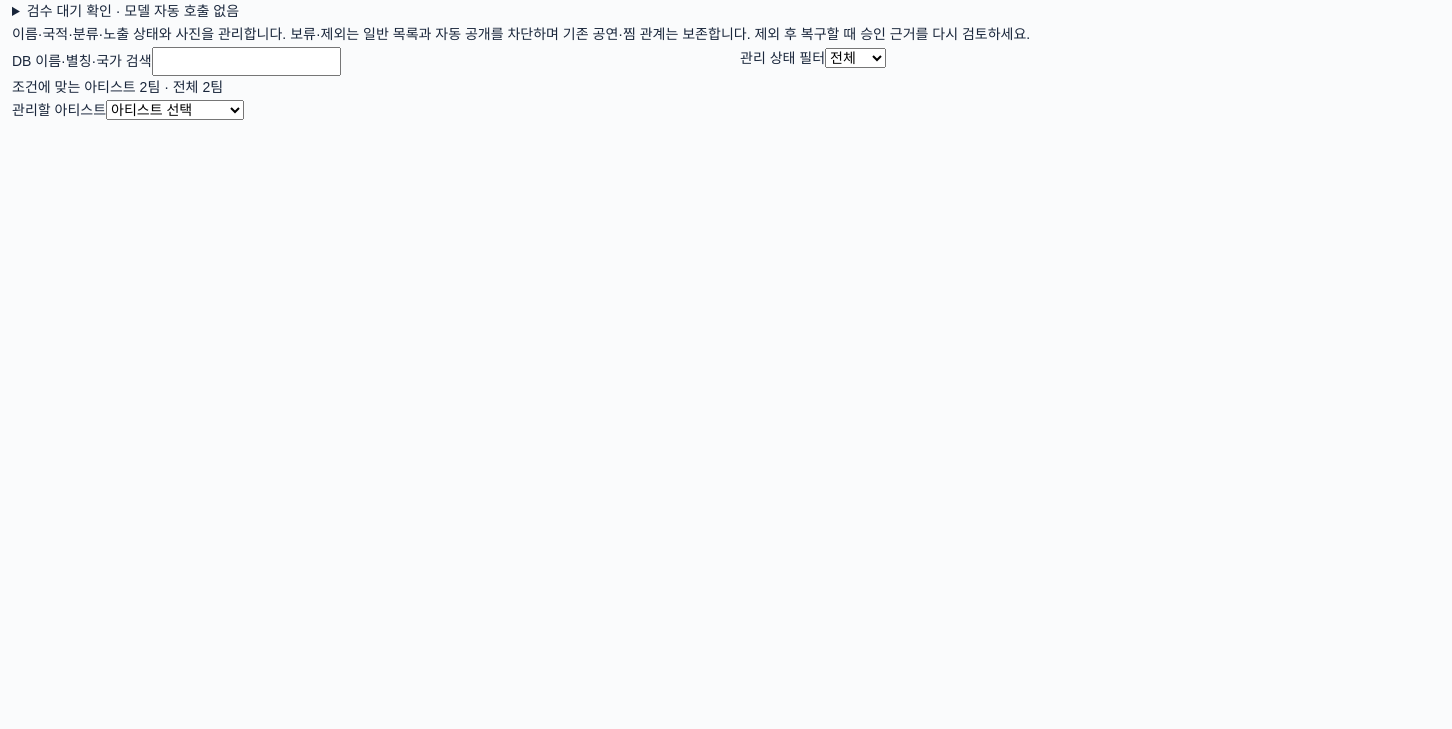
Test case: deletion suppresses auto photo and switching selection ignores an old save completion
The image size is (1452, 729).
Select "Ado (JP) · 미검수" in the dropdown labelled "관리할 아티스트". click: point(175, 110)
box: [106,100,244,120]
(page scrolled)
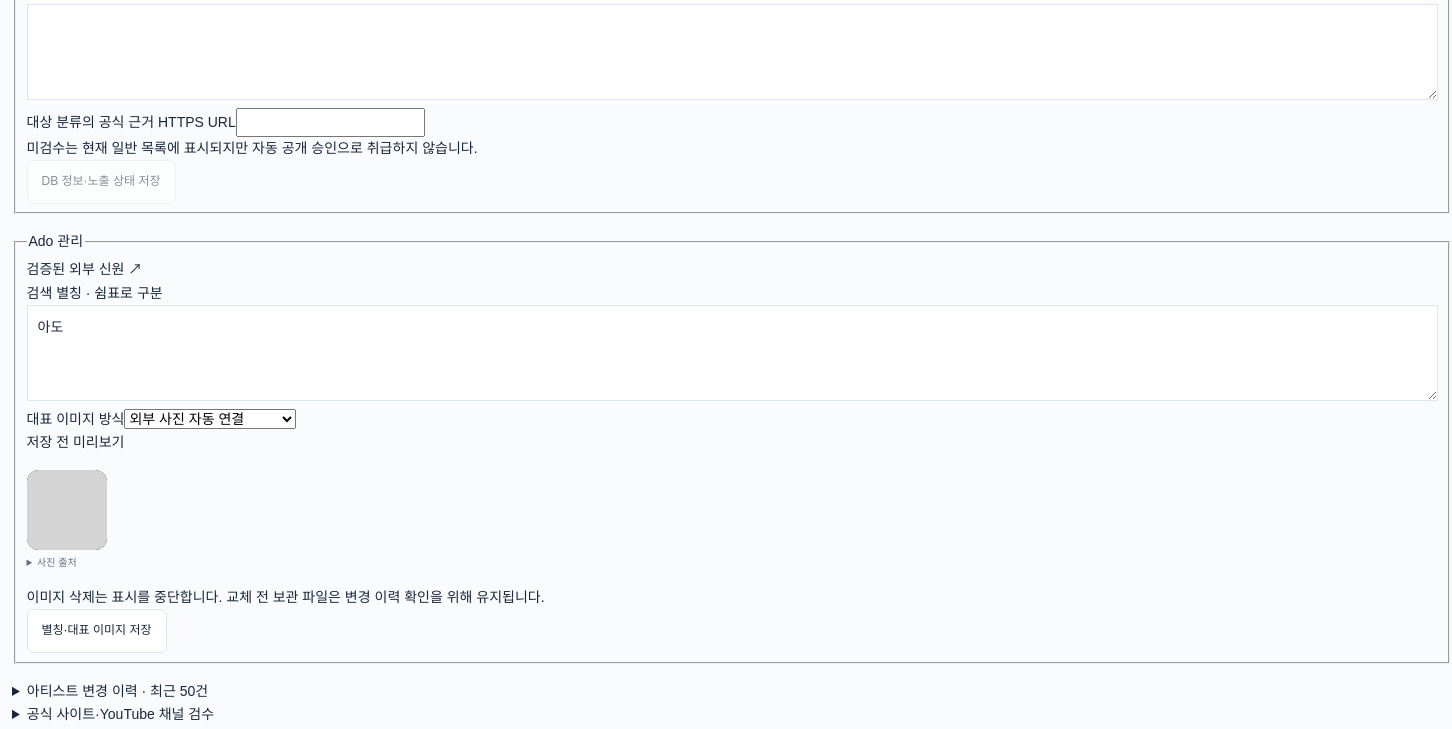
Select "이미지 삭제 · 이니셜 표시" in the dropdown labelled "대표 이미지 방식". click: point(210, 419)
box: [124,409,296,429]
(page scrolled)
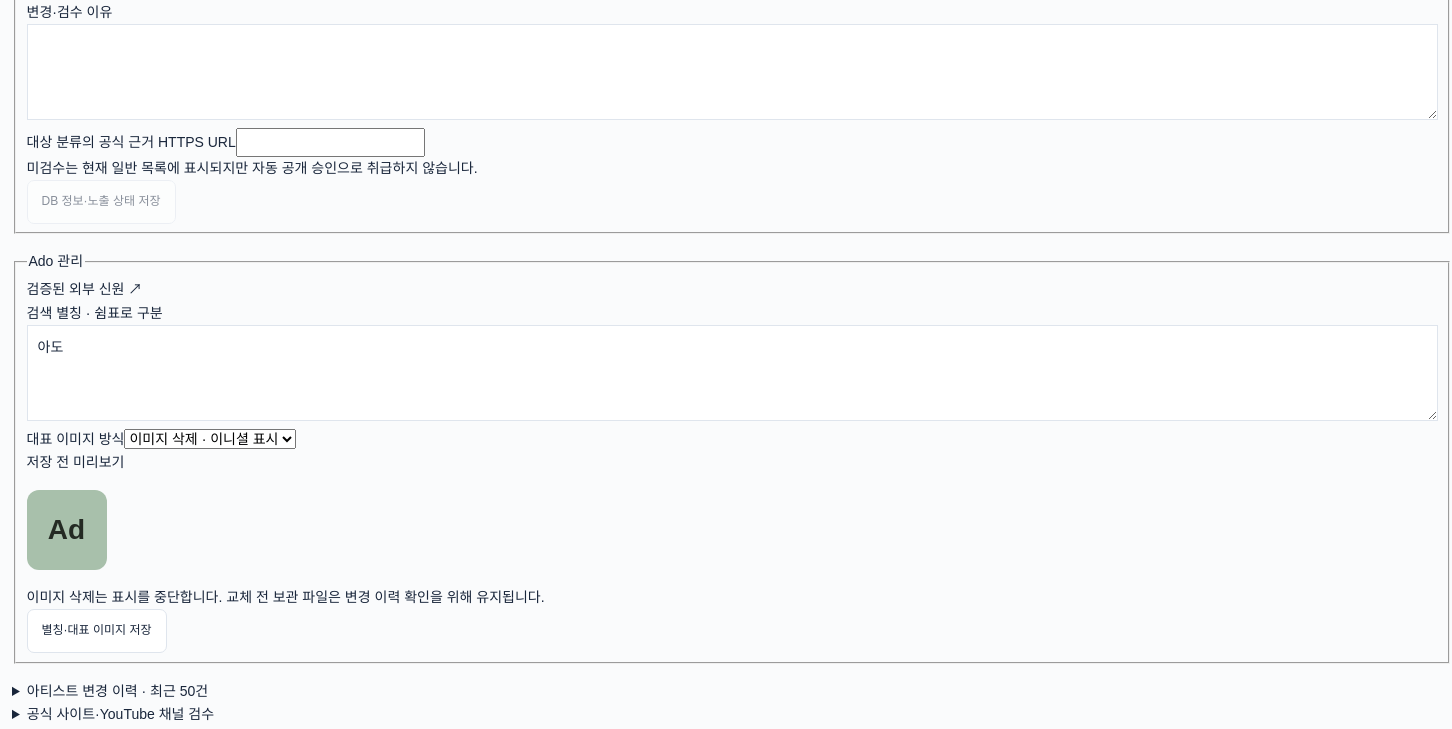
Click the button "별칭·대표 이미지 저장". click: point(96, 631)
box: [26,609,166,653]
(page scrolled)
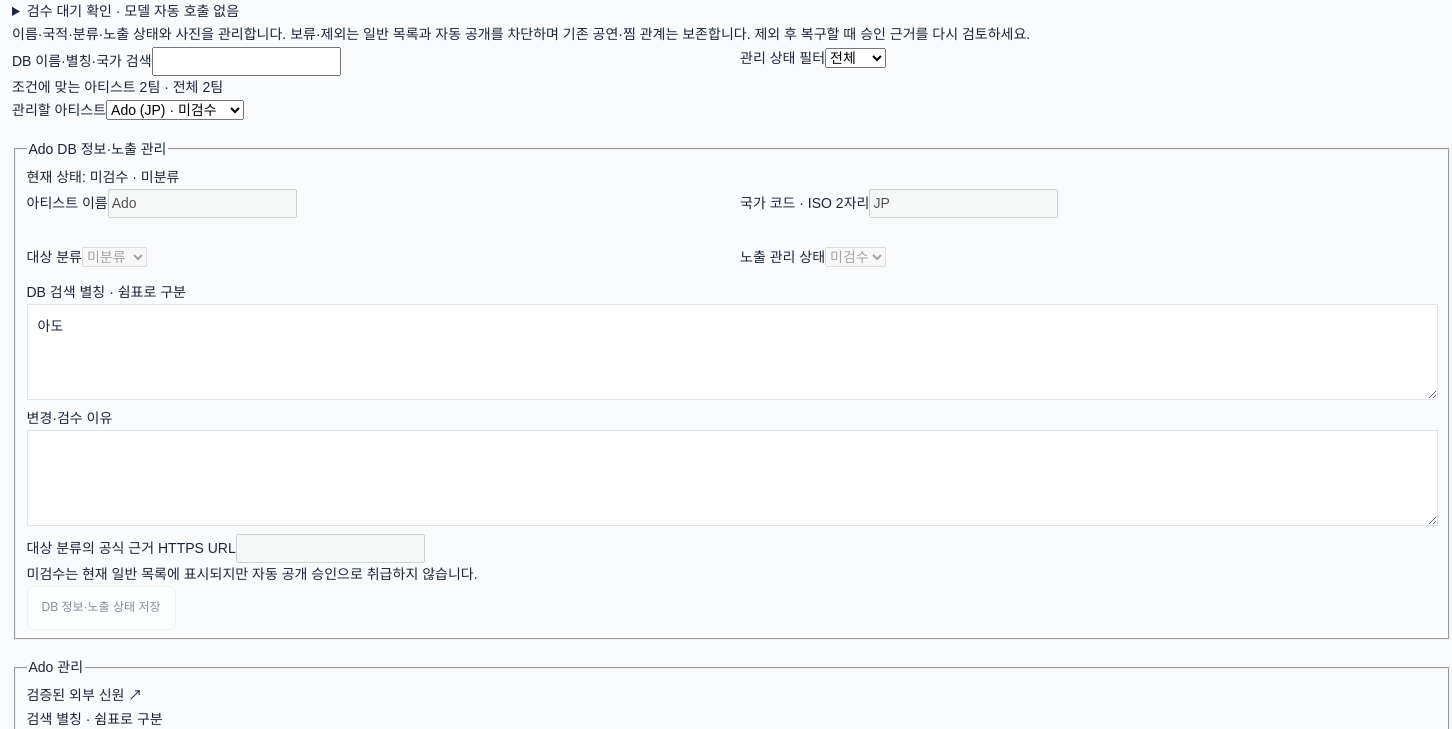
Select "Other (JP) · 미검수" in the dropdown labelled "관리할 아티스트". click: point(175, 110)
box: [106,100,244,120]
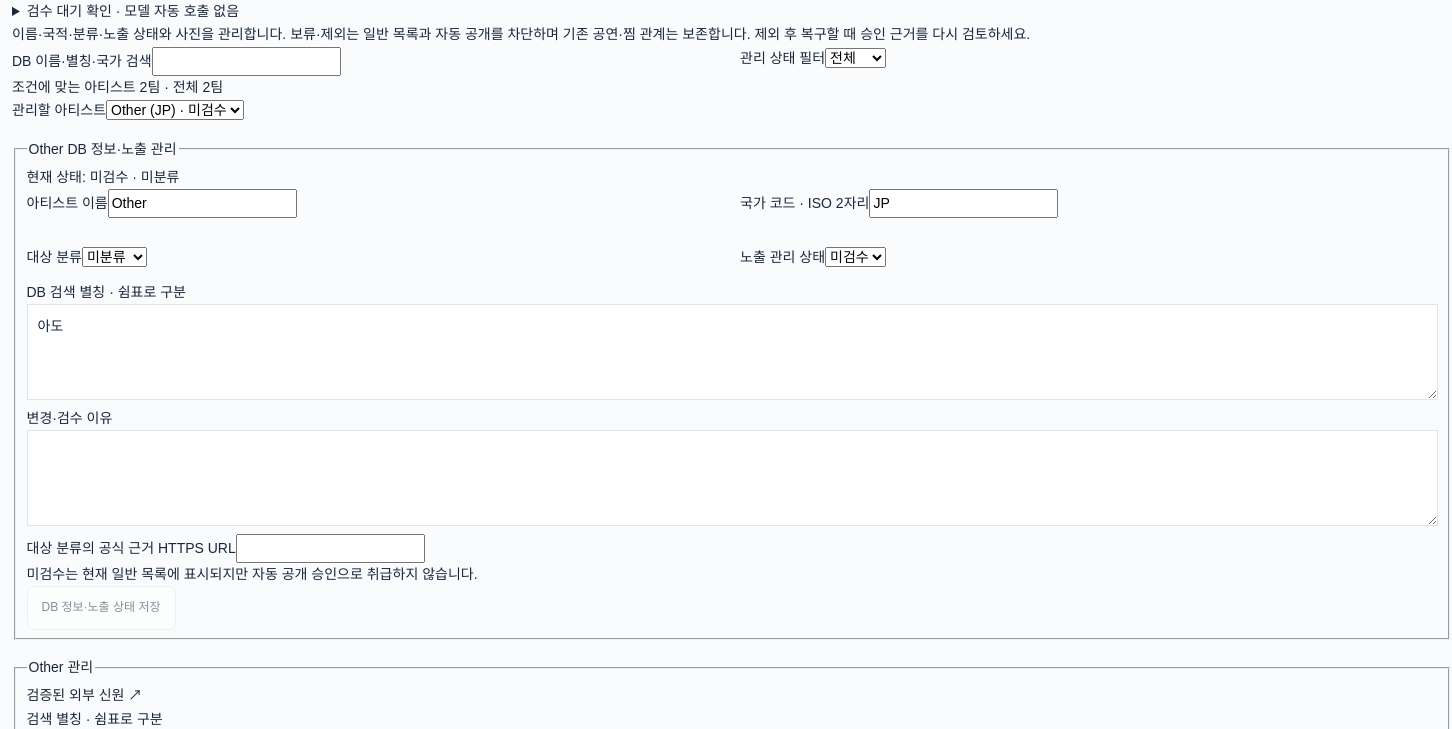
Expected: the text "Other 관리" is shown, [26,656,95,680]
